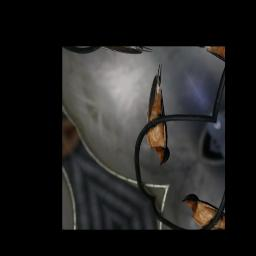Swallow: (117, 61, 205, 171)
